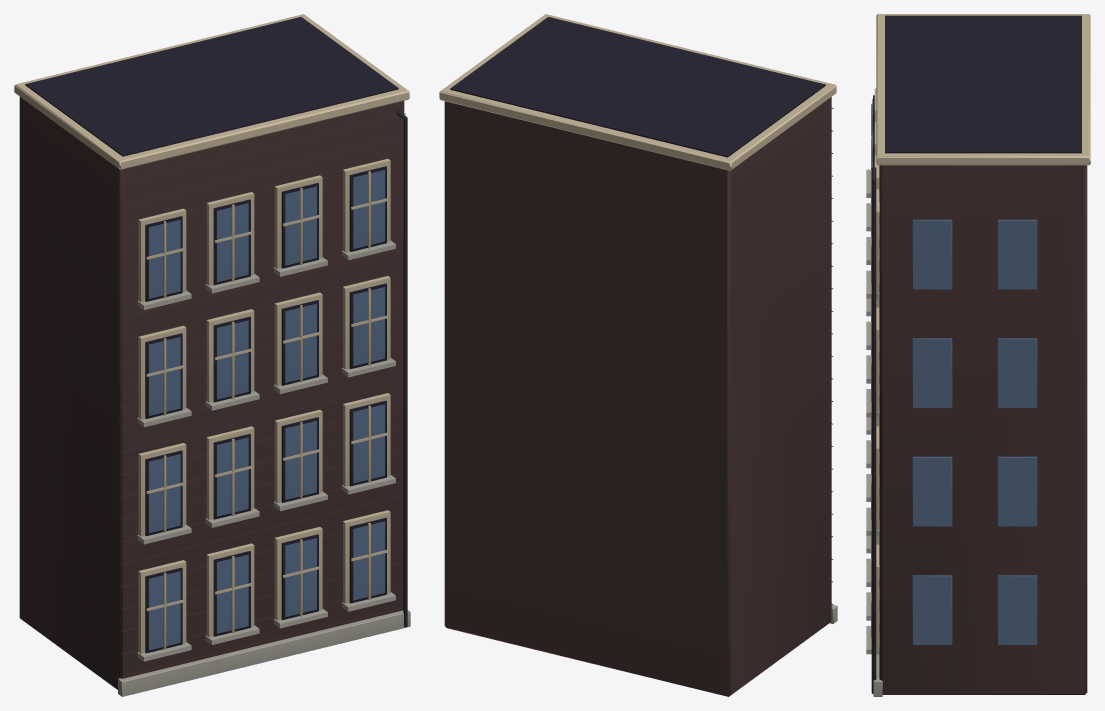
Rendered from env_brick_block.glb.
3 views of the same model, side by side, from view 1: azimuth 30°, elevation 25°; view 2: azimuth 150°, elevation 25°; view 3: azimuth 270°, elevation 25° (orthographic).
Visible parts, largest first — view 1: exterior, env_brick_block; view 2: exterior; view 3: exterior, env_brick_block.
Part boxes in pixels (bbox=[...]): exterior: bbox=[14, 14, 410, 696]; env_brick_block: bbox=[121, 111, 407, 676]; exterior: bbox=[439, 14, 837, 696]; exterior: bbox=[873, 14, 1090, 696]; env_brick_block: bbox=[866, 88, 1037, 693].
Bounding box in the file's own units: 5.97 × 10.52 × 3.94.
